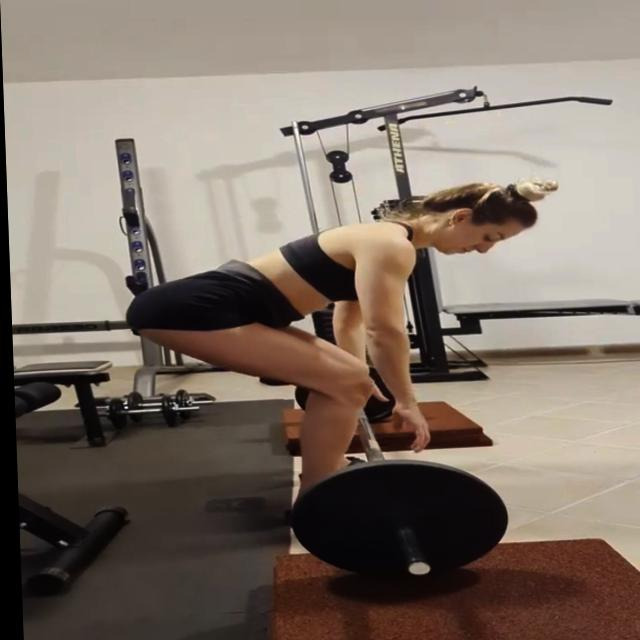barbell: (270, 458, 513, 592)
